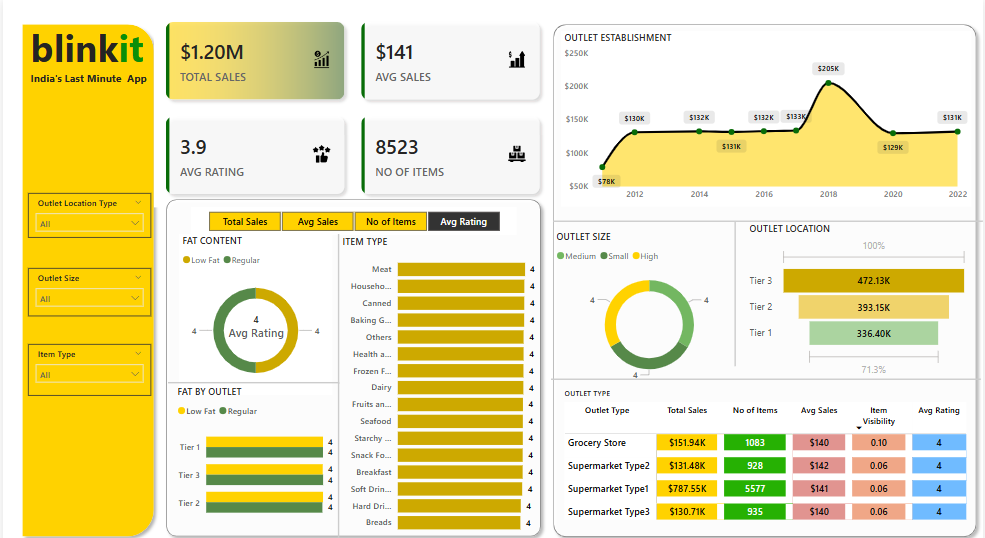

The dashboard page shown, as its layout file describes it:
{"tool":"powerbi","page":{"name":"Page 1","canvas":[1400,800],"ordinal":0},"visuals":[{"type":"shape","box":[18.4,25.7,205.8,749.6],"z":0},{"type":"textbox","box":[34.9,25.7,189.2,93.7],"z":1000},{"type":"textbox","box":[34.9,95.5,203.9,82.7],"z":2000},{"type":"cardVisual","fields":{"Data":["BlinkIT Grocery Data.Total Sales","BlinkIT Grocery Data.Avg Sales","BlinkIT Grocery Data.Avg Rating","BlinkIT Grocery Data.No of Items"]},"box":[216,14.4,569.6,281.6],"z":3000},{"type":"shape","box":[224.1,275.6,553,499.7],"z":4000},{"type":"donutChart","title":"FAT CONTENT","fields":{"Y":["BlinkIT Grocery Data.Avg Rating"],"Category":["BlinkIT Grocery Data.Item Fat Content"]},"box":[251.2,334.4,219.2,230.4],"z":5000},{"type":"slicer","fields":{"Values":["Metrics.Metrics"]},"box":[268.2,295.8,464.8,40.4],"z":6000},{"type":"cardVisual","fields":{"Data":["BlinkIT Grocery Data.Avg Rating"]},"box":[302.4,430.4,118.4,73.6],"z":7000},{"type":"clusteredBarChart","title":"FAT BY OUTLET","fields":{"Y":["BlinkIT Grocery Data.Avg Rating"],"Category":["BlinkIT Grocery Data.Outlet Location Type"],"Series":["BlinkIT Grocery Data.Item Fat Content"]},"box":[244.8,550.4,232,204.8],"z":8000},{"type":"shape","box":[235.2,524.8,244.8,44.8],"z":9000},{"type":"shape","box":[450.1,334.4,58.8,437.3],"z":10000},{"type":"barChart","title":"ITEM TYPE","fields":{"Y":["BlinkIT Grocery Data.Avg Rating"],"Category":["BlinkIT Grocery Data.Item Type"]},"box":[479.5,336.2,284.8,435.4],"z":11000},{"type":"shape","box":[777.6,25.6,622.4,750.4],"z":12000},{"type":"lineChart","title":"OUTLET ESTABLISHMENT","fields":{"Y":["BlinkIT Grocery Data.Total Sales"],"Category":["BlinkIT Grocery Data.Outlet Establishment Year"]},"box":[796.8,44.8,585.6,251.2],"z":13000},{"type":"shape","box":[785.6,292.8,614.4,46.4],"z":14000},{"type":"donutChart","title":"OUTLET SIZE","fields":{"Y":["BlinkIT Grocery Data.Avg Rating"],"Category":["BlinkIT Grocery Data.Outlet Size"]},"box":[785.6,328,275.2,225.6],"z":15000},{"type":"shape","box":[1017.6,316.8,57.6,206.4],"z":16000},{"type":"funnel","title":"OUTLET LOCATION","fields":{"Y":["Sum(BlinkIT Grocery Data.Sales)"],"Category":["BlinkIT Grocery Data.Outlet Location Type"]},"box":[1060.8,316.8,321.6,225.6],"z":17000},{"type":"shape","box":[782.4,518.4,614.4,46.4],"z":18000},{"type":"pivotTable","title":"OUTLET TYPE","fields":{"Rows":["BlinkIT Grocery Data.Outlet Type"],"Values":["BlinkIT Grocery Data.Total Sales","BlinkIT Grocery Data.No of Items","BlinkIT Grocery Data.Avg Sales","Avg(BlinkIT Grocery Data.Item Visibility)","BlinkIT Grocery Data.Avg Rating"]},"box":[796.8,553.6,585.6,201.6],"z":19000},{"type":"slicer","fields":{"Values":["BlinkIT Grocery Data.Outlet Location Type"]},"box":[35.2,275.2,176,64],"z":20000},{"type":"slicer","fields":{"Values":["BlinkIT Grocery Data.Outlet Size"]},"box":[35.2,382.4,176,68.8],"z":21000},{"type":"slicer","fields":{"Values":["BlinkIT Grocery Data.Item Type"]},"box":[35.2,491.2,176,73.6],"z":22000}]}

Visuals, with their boxes on the page's 1400x800 design canvas (x1, y1, x2, y2). These are canvas units, not pixel positions in the 985x538 screenshot, which may show the page scaled, cropped or inside an application window:
shape: [left=18, top=26, right=224, bottom=775]
textbox: [left=35, top=26, right=224, bottom=119]
textbox: [left=35, top=96, right=239, bottom=178]
cardVisual - BlinkIT Grocery Data.Total Sales x BlinkIT Grocery Data.Avg Sales: [left=216, top=14, right=786, bottom=296]
shape: [left=224, top=276, right=777, bottom=775]
"FAT CONTENT" donutChart: [left=251, top=334, right=470, bottom=565]
slicer - Metrics.Metrics: [left=268, top=296, right=733, bottom=336]
cardVisual - BlinkIT Grocery Data.Avg Rating: [left=302, top=430, right=421, bottom=504]
"FAT BY OUTLET" clusteredBarChart: [left=245, top=550, right=477, bottom=755]
shape: [left=235, top=525, right=480, bottom=570]
shape: [left=450, top=334, right=509, bottom=772]
"ITEM TYPE" barChart: [left=480, top=336, right=764, bottom=772]
shape: [left=778, top=26, right=1400, bottom=776]
"OUTLET ESTABLISHMENT" lineChart: [left=797, top=45, right=1382, bottom=296]
shape: [left=786, top=293, right=1400, bottom=339]
"OUTLET SIZE" donutChart: [left=786, top=328, right=1061, bottom=554]
shape: [left=1018, top=317, right=1075, bottom=523]
"OUTLET LOCATION" funnel: [left=1061, top=317, right=1382, bottom=542]
shape: [left=782, top=518, right=1397, bottom=565]
"OUTLET TYPE" pivotTable: [left=797, top=554, right=1382, bottom=755]
slicer - BlinkIT Grocery Data.Outlet Location Type: [left=35, top=275, right=211, bottom=339]
slicer - BlinkIT Grocery Data.Outlet Size: [left=35, top=382, right=211, bottom=451]
slicer - BlinkIT Grocery Data.Item Type: [left=35, top=491, right=211, bottom=565]
